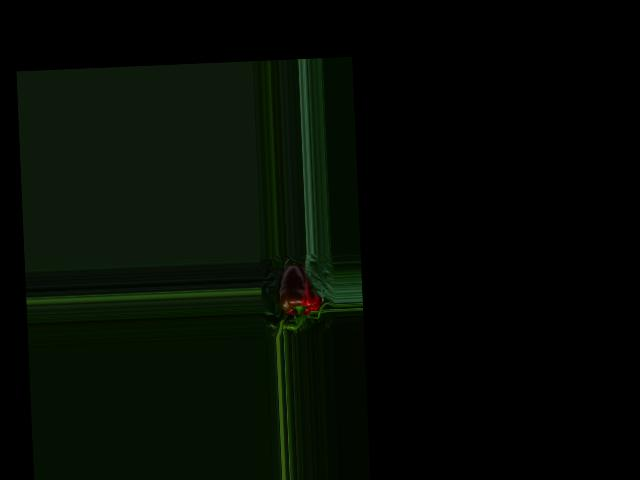bell_pepper: (270, 259, 324, 322)
